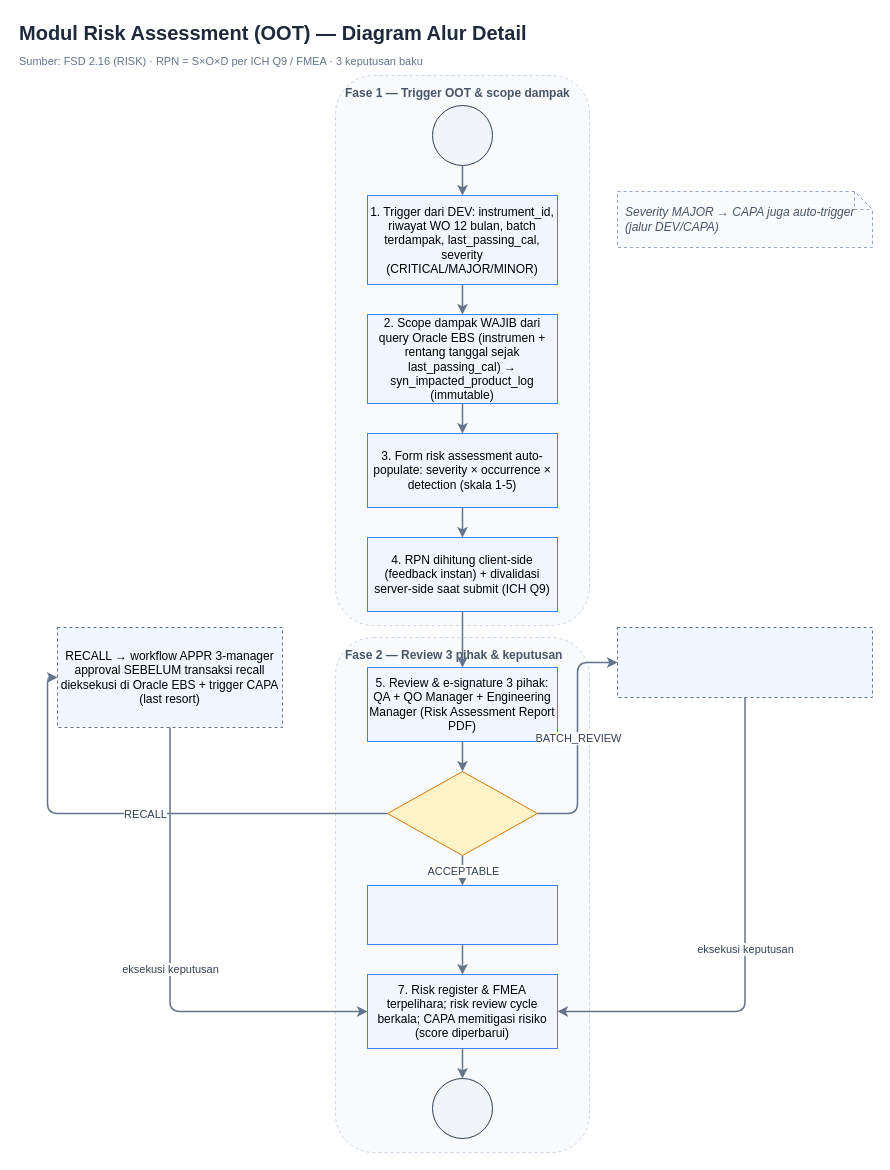
Image size: 890x1170. Some labels were removed from this diagram. Each missing label, with the centre of its shape:
6. Tidak ada tindakan lanjutan; risiko tercatat di risk register — status CLOSED: the point at 462,914
BATCH_REVIEW → investigasi batch di QMS + trigger action CAPA: the point at 744,662
Keputusan (risk_decision)?: the point at 462,813
Mulai (OOT: OOS pada alat yang terpakai produksi): the point at 462,135
Selesai: the point at 462,1108
